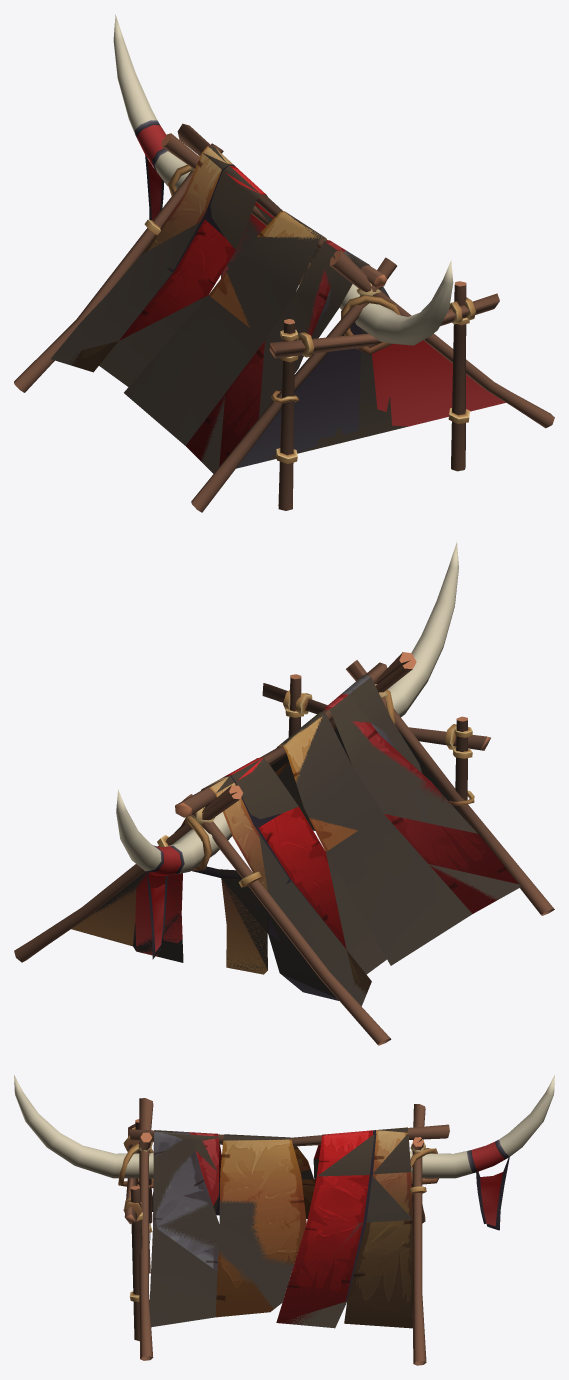
Rendered from Tent_1D.fbx.
The picture shows the model from 3 angles, top to bottom: view 1: azimuth 30°, elevation 25°; view 2: azimuth 150°, elevation 25°; view 3: azimuth 270°, elevation 25°; orthographic projection. The views are drawn at different scales.
Parts seen in each view (by area): view 1: Tent_1D; view 2: Tent_1D; view 3: Tent_1D.
Boxes of the visible parts, x1=… form: Tent_1D: x1=14, y1=14, x2=554, y2=512; Tent_1D: x1=14, y1=542, x2=554, y2=1045; Tent_1D: x1=14, y1=1075, x2=554, y2=1365.
Bounding box in the file's own units: 798 × 590 × 1251.
